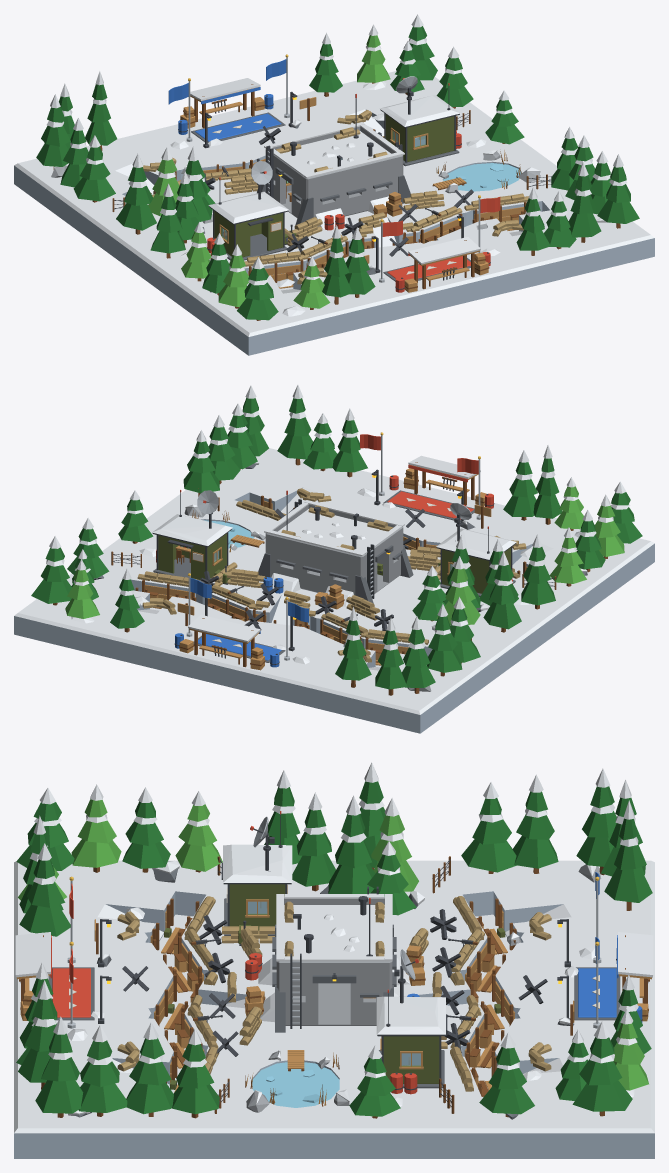
Rendered from snowy_bunker.glb.
The picture shows the model from 3 angles, top to bottom: view 1: azimuth 30°, elevation 25°; view 2: azimuth 150°, elevation 25°; view 3: azimuth 270°, elevation 25°; orthographic projection. The views are drawn at different scales.
Visible parts, largest first — view 1: snowy_bunker.010, snowy_bunker.015, snowy_bunker.020, snowy_bunker.008, snowy_bunker.014, snowy_bunker.016, snowy_bunker.001, snowy_bunker.006, snowy_bunker.003, snowy_bunker.002, snowy_bunker.009, snowy_bunker.018 (+3 smaller); view 2: snowy_bunker.010, snowy_bunker.015, snowy_bunker.020, snowy_bunker.014, snowy_bunker.008, snowy_bunker.016, snowy_bunker.001, snowy_bunker.006, snowy_bunker.002, snowy_bunker.003, snowy_bunker.009, snowy_bunker.012 (+2 smaller); view 3: snowy_bunker.010, snowy_bunker.015, snowy_bunker.020, snowy_bunker.014, snowy_bunker.008, snowy_bunker.006, snowy_bunker.002, snowy_bunker.016, snowy_bunker.001, snowy_bunker.003, snowy_bunker.009, snowy_bunker.017 (+3 smaller).
Part boxes in pixels (x1=…): snowy_bunker.010: x1=14, y1=14, x2=654, y2=336; snowy_bunker.015: x1=36, y1=26, x2=639, y2=320; snowy_bunker.020: x1=14, y1=109, x2=654, y2=355; snowy_bunker.008: x1=51, y1=126, x2=540, y2=229; snowy_bunker.014: x1=143, y1=110, x2=528, y2=284; snowy_bunker.016: x1=148, y1=35, x2=390, y2=308; snowy_bunker.001: x1=180, y1=87, x2=524, y2=292; snowy_bunker.006: x1=114, y1=86, x2=551, y2=289; snowy_bunker.003: x1=152, y1=114, x2=454, y2=257; snowy_bunker.002: x1=53, y1=82, x2=620, y2=320; snowy_bunker.009: x1=191, y1=112, x2=470, y2=292; snowy_bunker.018: x1=168, y1=59, x2=286, y2=141; snowy_bunker.010: x1=14, y1=385, x2=654, y2=714; snowy_bunker.015: x1=31, y1=397, x2=642, y2=689; snowy_bunker.020: x1=14, y1=487, x2=654, y2=733; snowy_bunker.014: x1=137, y1=488, x2=526, y2=662; snowy_bunker.008: x1=184, y1=504, x2=431, y2=691; snowy_bunker.016: x1=65, y1=486, x2=624, y2=624; snowy_bunker.001: x1=144, y1=464, x2=527, y2=670; snowy_bunker.006: x1=112, y1=469, x2=554, y2=664; snowy_bunker.002: x1=53, y1=458, x2=607, y2=695; snowy_bunker.003: x1=158, y1=533, x2=516, y2=593; snowy_bunker.009: x1=94, y1=464, x2=587, y2=662; snowy_bunker.012: x1=156, y1=434, x2=512, y2=583; snowy_bunker.010: x1=14, y1=762, x2=654, y2=1133; snowy_bunker.015: x1=16, y1=781, x2=652, y2=1116; snowy_bunker.020: x1=14, y1=891, x2=654, y2=1158; snowy_bunker.014: x1=117, y1=896, x2=551, y2=1091; snowy_bunker.008: x1=246, y1=864, x2=601, y2=1112; snowy_bunker.006: x1=20, y1=814, x2=648, y2=1106; snowy_bunker.002: x1=19, y1=856, x2=649, y2=1118; snowy_bunker.016: x1=18, y1=799, x2=648, y2=1090; snowy_bunker.001: x1=16, y1=885, x2=652, y2=1105; snowy_bunker.003: x1=164, y1=884, x2=505, y2=1089; snowy_bunker.009: x1=48, y1=868, x2=620, y2=1119; snowy_bunker.017: x1=252, y1=1062, x2=339, y2=1107.
Size of the model in its own units: 35 by 8.93 by 35.
